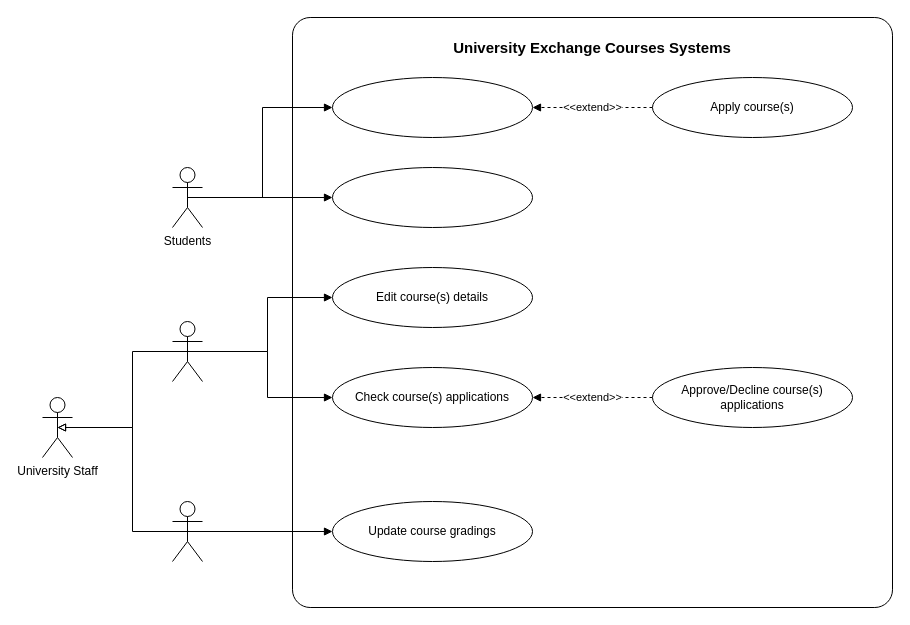
This 910x625 diagram has some shape labels left out. Each missing label, with the centre of its shape:
Admin: the point at 187,351
Check course(s) details: the point at 432,107
Check gradings: the point at 432,197
Lecturer: the point at 187,531
